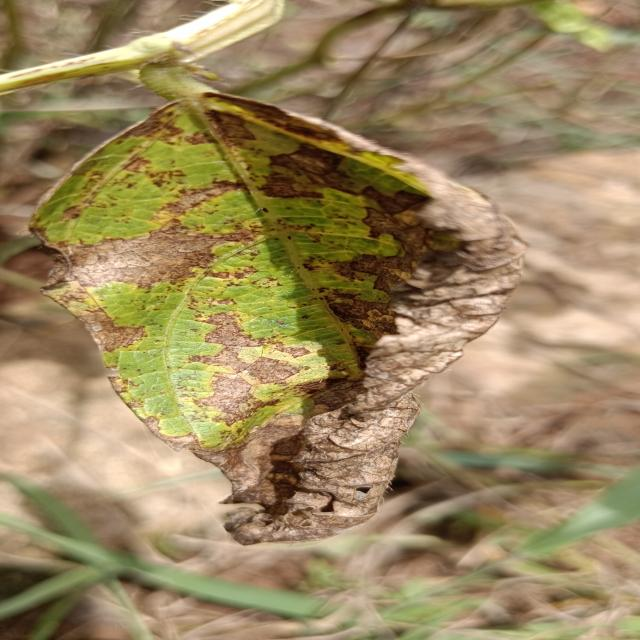Black gram_leaf spot: (11, 71, 529, 547)
